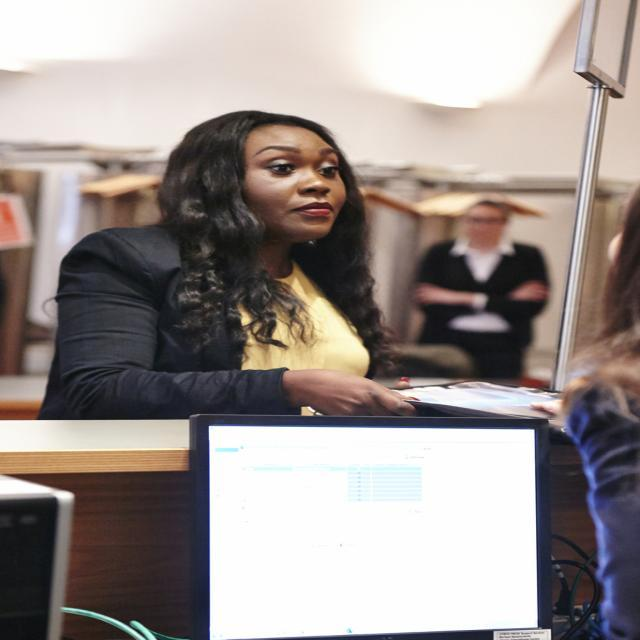others: (32, 64, 487, 419), (175, 418, 553, 637)
